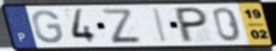0: (212, 6, 243, 43)
4: (70, 7, 99, 46)
G: (31, 9, 66, 45)
I: (152, 7, 170, 44)
P: (175, 6, 209, 44)
Z: (99, 8, 144, 45)
